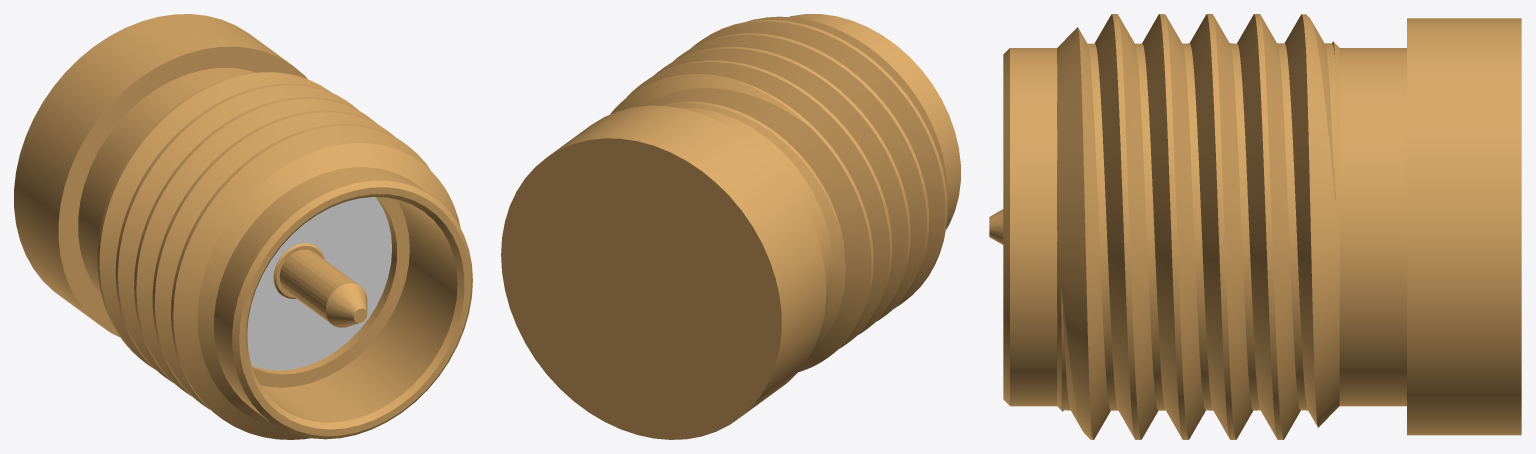
Rendered from rpsma_female.glb.
3 renders of one model, left to right at view 1: azimuth 30°, elevation 25°; view 2: azimuth 150°, elevation 25°; view 3: azimuth 270°, elevation 25°, orthographic. The views are drawn at different scales.
Parts seen in each view (by area): view 1: rpsma_female; view 2: rpsma_female; view 3: rpsma_female.
Part boxes in pixels (x1,y1,x2,y2): rpsma_female: [14, 14, 472, 439]; rpsma_female: [501, 14, 960, 439]; rpsma_female: [989, 14, 1521, 439].
Size of the model in its own units: 0.6331 by 0.633 by 0.7917.
